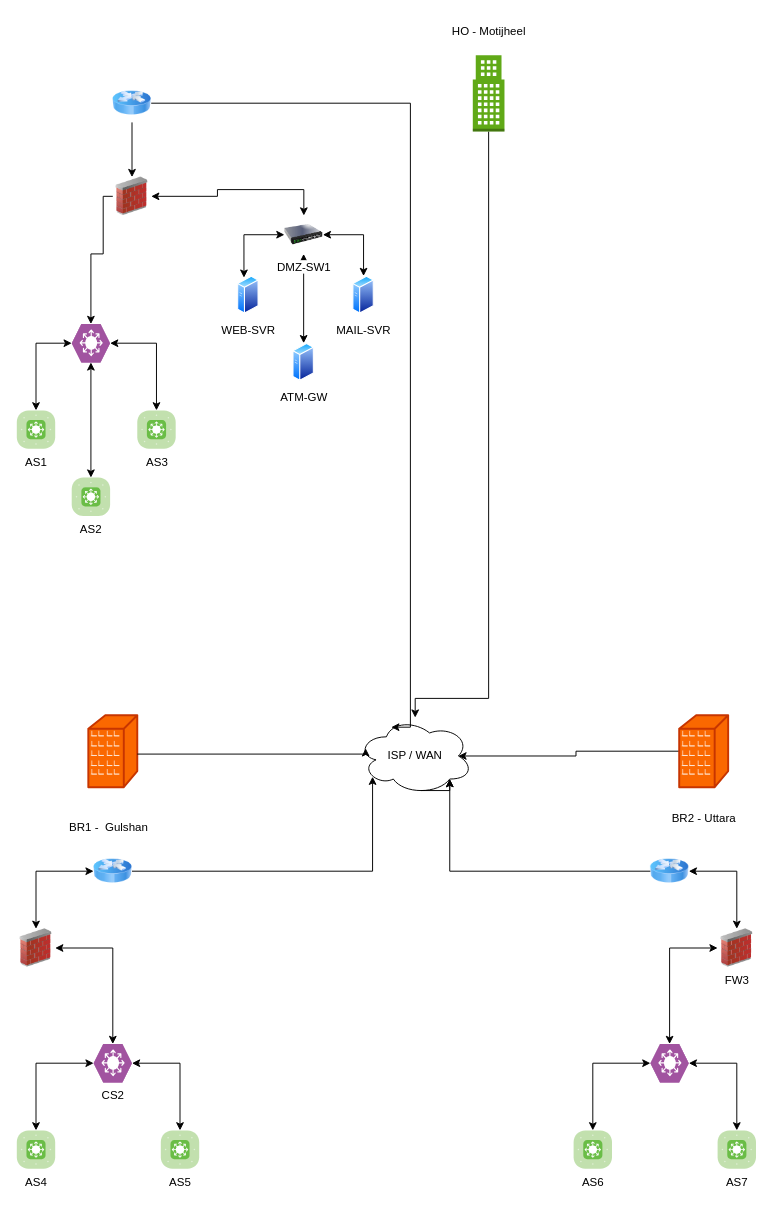
This 773x1205 diagram has some shape labels left out. The shapes that lost their labels are listed below. From the top down, each one's centre as x and y in pixels, then its label:
At (x=131, y=103): "R1".
At (x=131, y=196): "FW1".
At (x=90, y=342): "CS1".
At (x=112, y=871): "R2".
At (x=669, y=871): "R3".
At (x=35, y=947): "FW2".
At (x=669, y=1062): "CS3".
